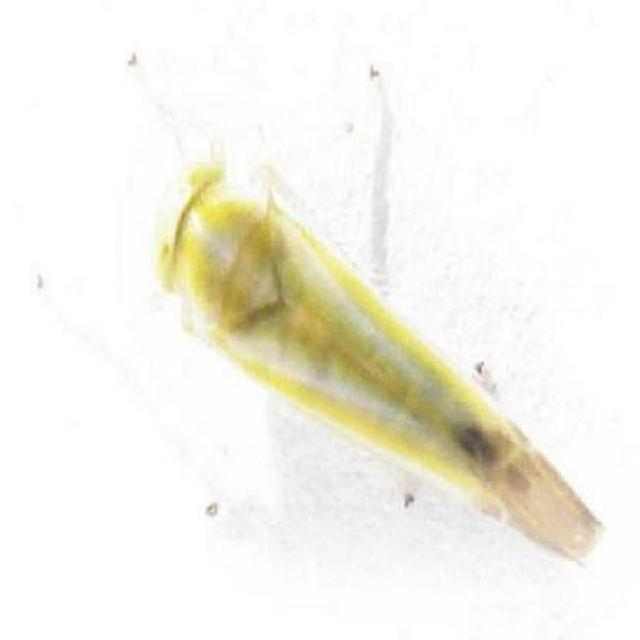green-leafhopper: (132, 144, 608, 560)
